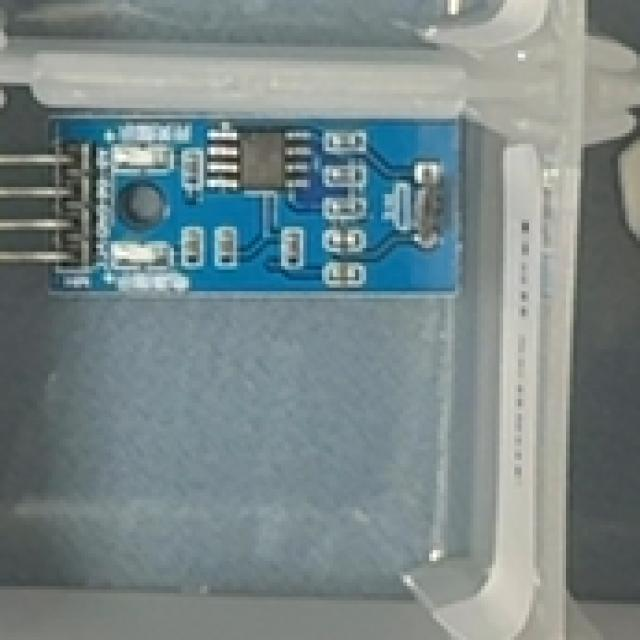Hall Sensor: (0, 105, 463, 298)
